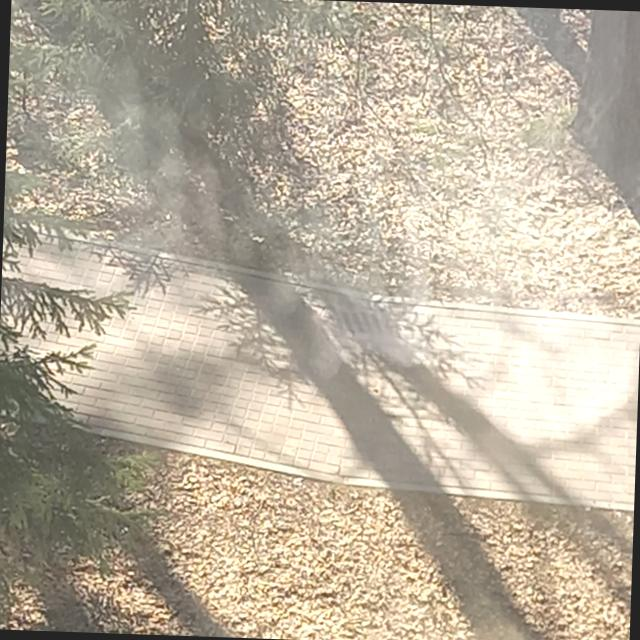person: (71, 41, 426, 384)
